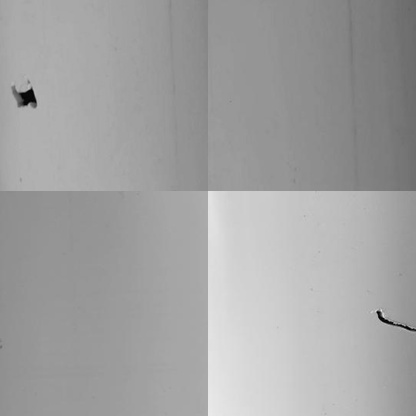fengxi: (373, 307, 413, 336)
kongdong: (7, 85, 40, 110)
